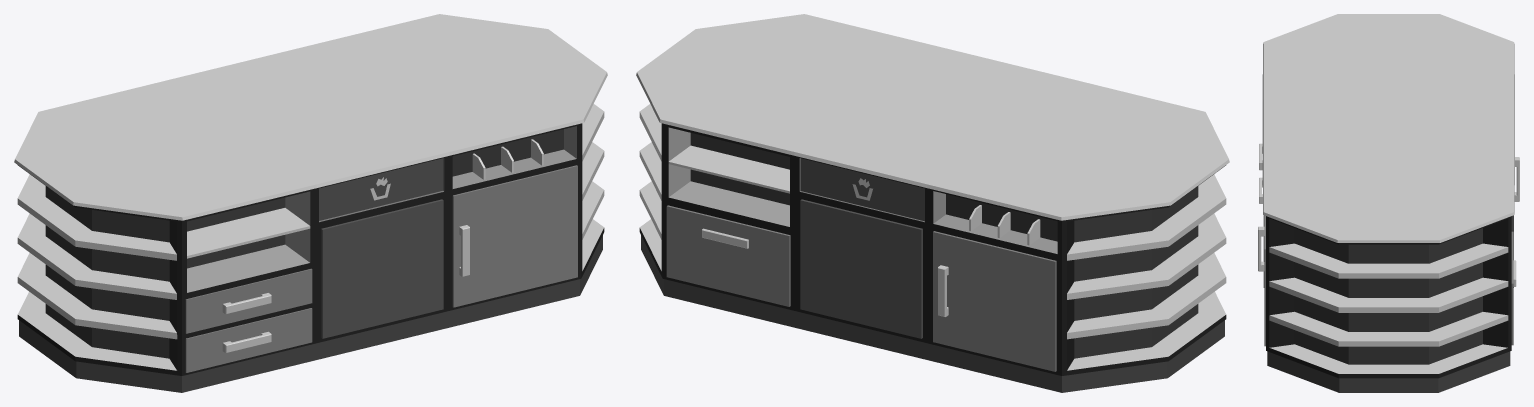
The model's file is Large Hexagonal Food Counter w_Garbages White.fbx.
3 views of the same model, side by side, from view 1: azimuth 30°, elevation 25°; view 2: azimuth 150°, elevation 25°; view 3: azimuth 270°, elevation 25° (orthographic). The views are drawn at different scales.
Parts seen in each view (by area): view 1: Large Hexagonal Food Counter w_Garbages White; view 2: Large Hexagonal Food Counter w_Garbages White; view 3: Large Hexagonal Food Counter w_Garbages White.
Boxes of the visible parts, bbox=[...] form: Large Hexagonal Food Counter w_Garbages White: bbox=[14, 14, 607, 392]; Large Hexagonal Food Counter w_Garbages White: bbox=[636, 14, 1229, 392]; Large Hexagonal Food Counter w_Garbages White: bbox=[1258, 14, 1519, 392].
Size of the model in its own units: 304 by 96.66 by 149.
Materials: 1 (1 with a texture image).
